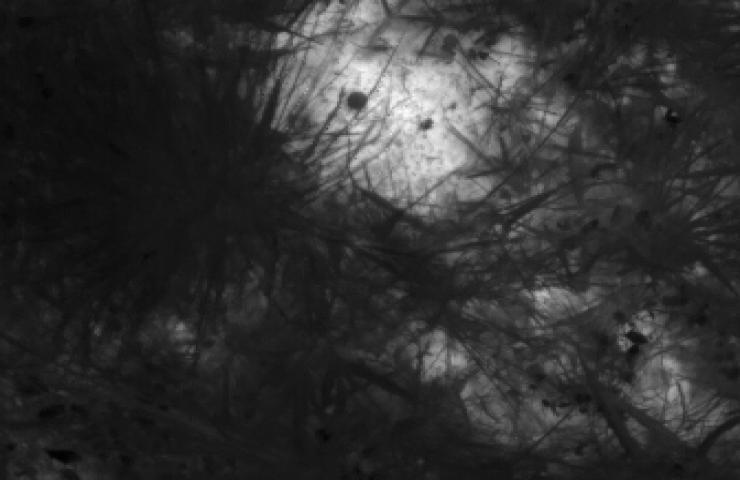landmines: (231, 4, 589, 229)
